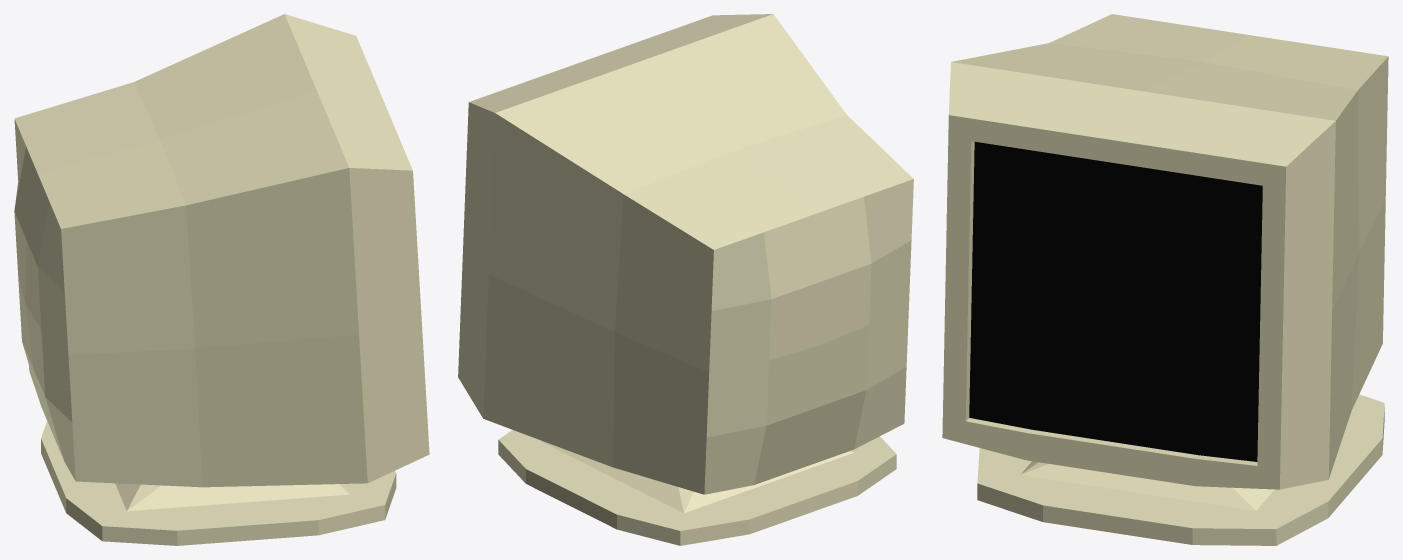
The model's file is Monitor_right.fbx.
3 renders of one model, left to right at view 1: azimuth 30°, elevation 25°; view 2: azimuth 150°, elevation 25°; view 3: azimuth 270°, elevation 25°, orthographic. The views are drawn at different scales.
Parts seen in each view (by area): view 1: Monitor_right; view 2: Monitor_right; view 3: Monitor_right.
Part boxes in pixels (<box>): Monitor_right: <box>14,14,429,545</box>; Monitor_right: <box>458,14,913,545</box>; Monitor_right: <box>942,14,1388,545</box>.
Bounding box in the file's own units: 96.8 × 88.92 × 87.18.
